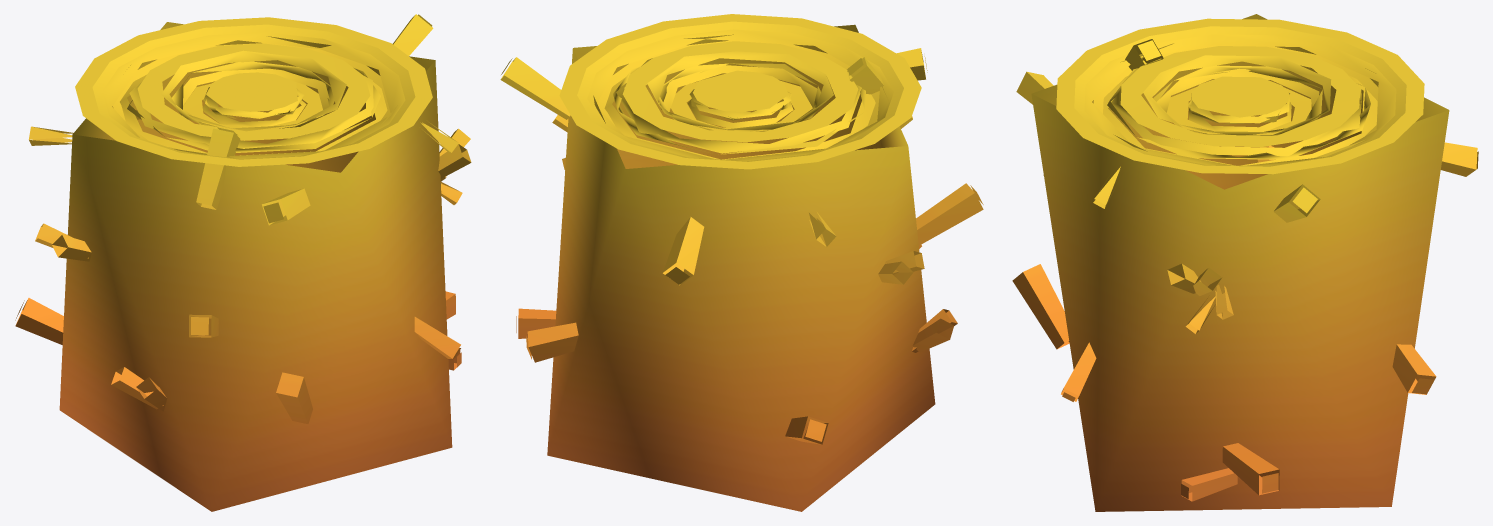
The model's file is decorSmall-forest-50.glb.
The picture shows the model from 3 angles, left to right: view 1: azimuth 30°, elevation 25°; view 2: azimuth 150°, elevation 25°; view 3: azimuth 270°, elevation 25°; orthographic projection. The views are drawn at different scales.
Visible parts, largest first — view 1: piece; view 2: piece; view 3: piece.
Boxes of the visible parts, x1,y1,x2,y2 form: piece: (15, 14, 471, 511); piece: (500, 14, 983, 511); piece: (1012, 14, 1478, 511).
Bounding box in the file's own units: 0.8217 × 0.6803 × 0.7857.
Materials: 1 (1 with a texture image).
